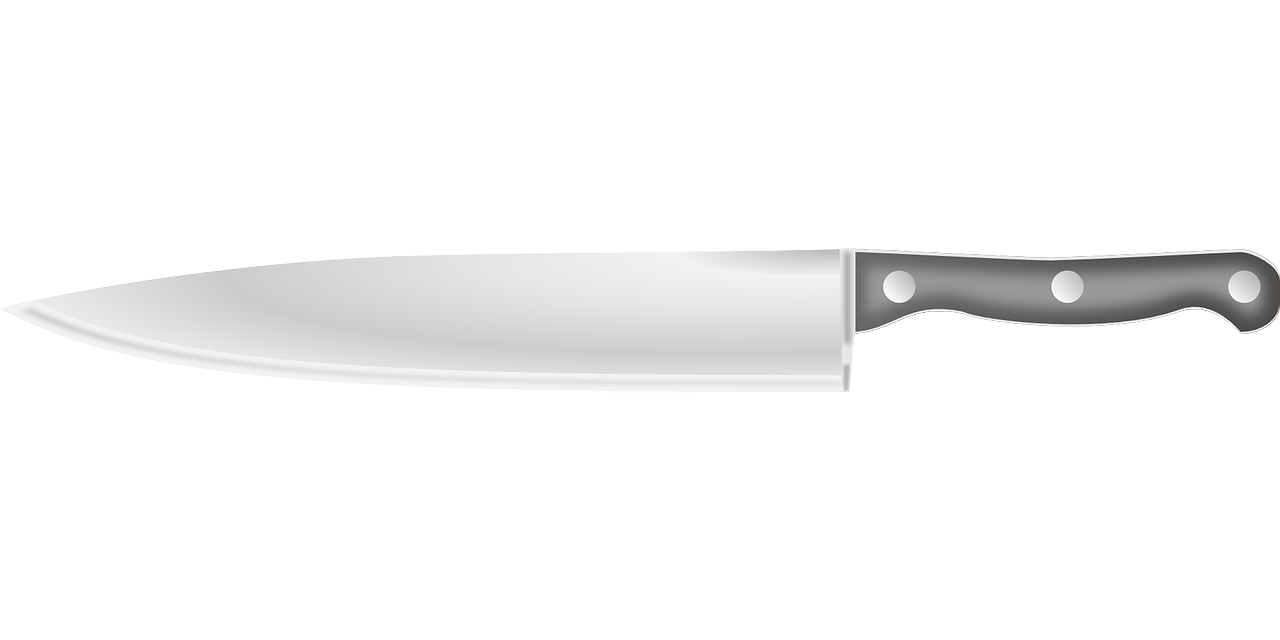knife: (0, 237, 1280, 403)
